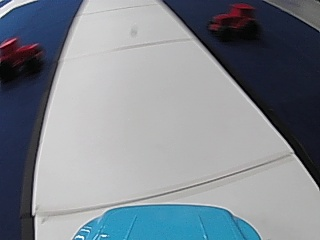tractor: (205, 3, 257, 41), (0, 34, 42, 79)
